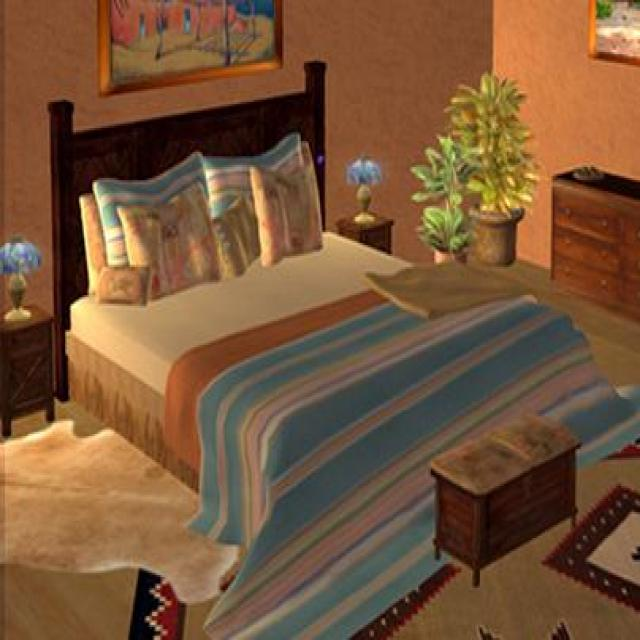bed: (46, 58, 640, 638)
